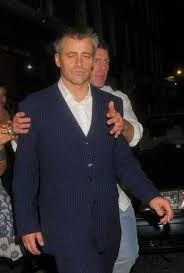Drunk: (61, 40, 94, 85)
